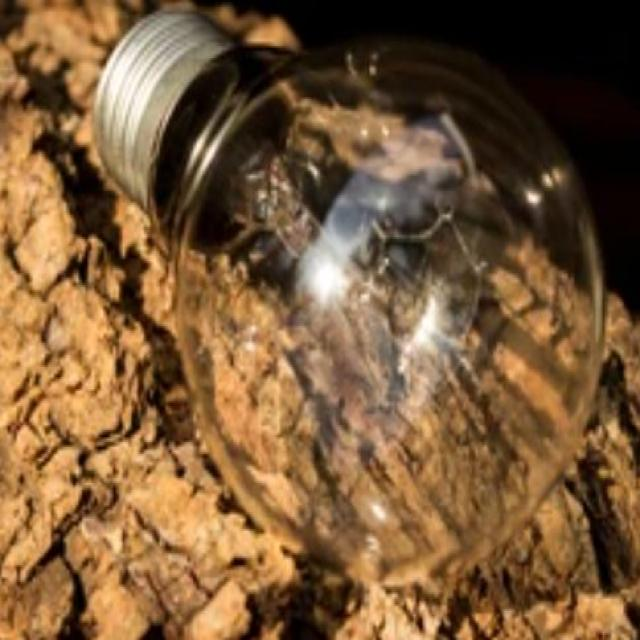electronic: (90, 3, 607, 590)
